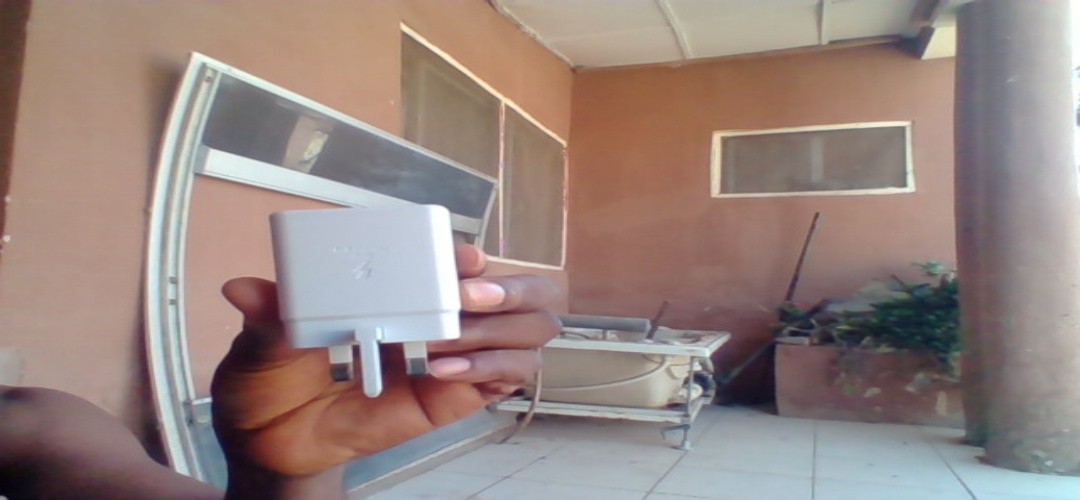phone_charger: (266, 203, 460, 396)
